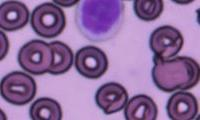L: (75, 0, 125, 41)
